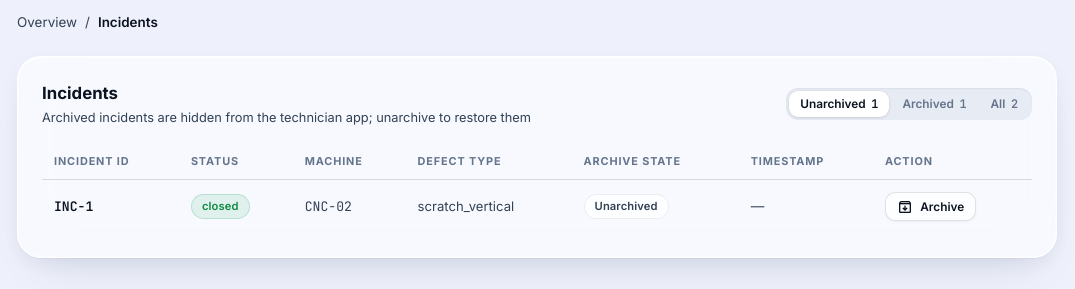
IncidentListView › shows only unarchived incidents by default and archived ones under the Archived filter
Expected: the text "INC-1" is shown, [54,198,93,215]
Expected: the text "INC-2" is not shown
What coordinates should you click on to do the following:
click the button "Archived 1"
I would click on:
 (934, 104)
Its box is [891,91,978,117].
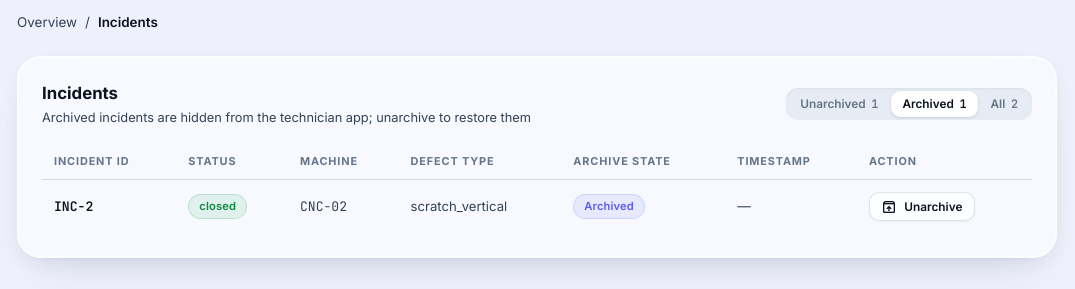
Now the text "INC-2" is shown, box [54,198,93,215]
Now the text "INC-1" is gone
